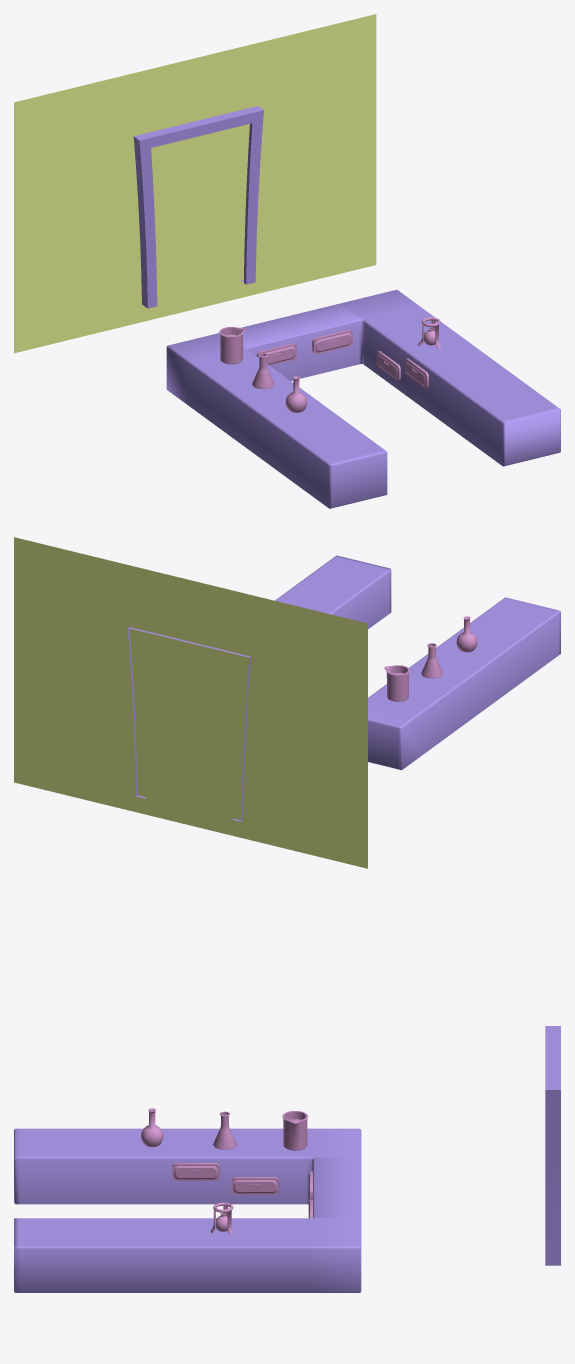
The model's file is conjunto_lab.FBX.
The picture shows the model from 3 angles, top to bottom: view 1: azimuth 30°, elevation 25°; view 2: azimuth 150°, elevation 25°; view 3: azimuth 270°, elevation 25°; orthographic projection. The views are drawn at different scales.
Parts seen in each view (by area): view 1: paret_low, mesa_low, puerta2_low, proveta1_low, cajon_low; view 2: paret_low, mesa_low, puerta2_low, proveta1_low, proveta2_low, proveta3_low; view 3: mesa_low, puerta2_low, proveta1_low, Box009, Box010.
Part boxes in pixels (bbox=[...]): paret_low: bbox=[14, 14, 376, 353]; mesa_low: bbox=[166, 289, 560, 508]; puerta2_low: bbox=[133, 106, 263, 308]; proveta1_low: bbox=[219, 326, 245, 364]; cajon_low: bbox=[312, 329, 352, 354]; paret_low: bbox=[14, 537, 367, 868]; mesa_low: bbox=[275, 555, 560, 770]; puerta2_low: bbox=[128, 627, 250, 821]; proveta1_low: bbox=[384, 665, 409, 701]; proveta2_low: bbox=[421, 643, 442, 678]; proveta3_low: bbox=[456, 616, 477, 652]; mesa_low: bbox=[14, 1128, 361, 1292]; puerta2_low: bbox=[545, 1026, 560, 1265]; proveta1_low: bbox=[282, 1111, 308, 1150]; Box009: bbox=[231, 1177, 279, 1194]; Box010: bbox=[172, 1163, 219, 1180].
Size of the model in its own units: 163 by 108 by 202.
